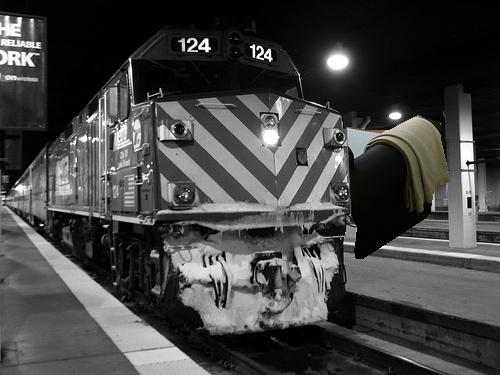tampered: (347, 116, 450, 259)
